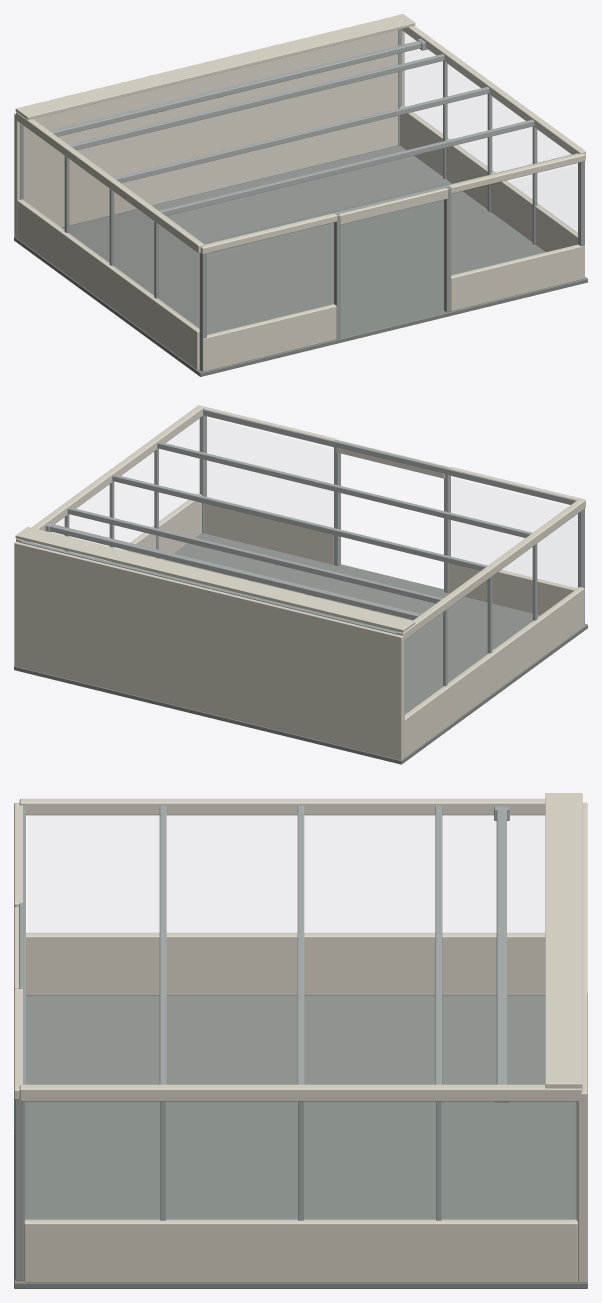
File: museum-conservation-and-art-restoration-museum-conserv-b83d5b45__31870.glb
3 renders of one model, top to bottom at view 1: azimuth 30°, elevation 25°; view 2: azimuth 150°, elevation 25°; view 3: azimuth 270°, elevation 25°, orthographic. The views are drawn at different scales.
Visible parts, largest first — view 1: museum-conservation-and-art-restoration-roofed-conservation- (×4); view 2: museum-conservation-and-art-restoration-roofed-conservation- (×4); view 3: museum-conservation-and-art-restoration-roofed-conservation- (×4).
Boxes of the visible parts, box(x1,y1,x2,y2) form: museum-conservation-and-art-restoration-roofed-conservation- (×4): box(14, 14, 587, 376); museum-conservation-and-art-restoration-roofed-conservation- (×4): box(14, 405, 587, 764); museum-conservation-and-art-restoration-roofed-conservation- (×4): box(14, 793, 587, 1288).
Size of the model in its own units: 12 by 3.95 by 10.
